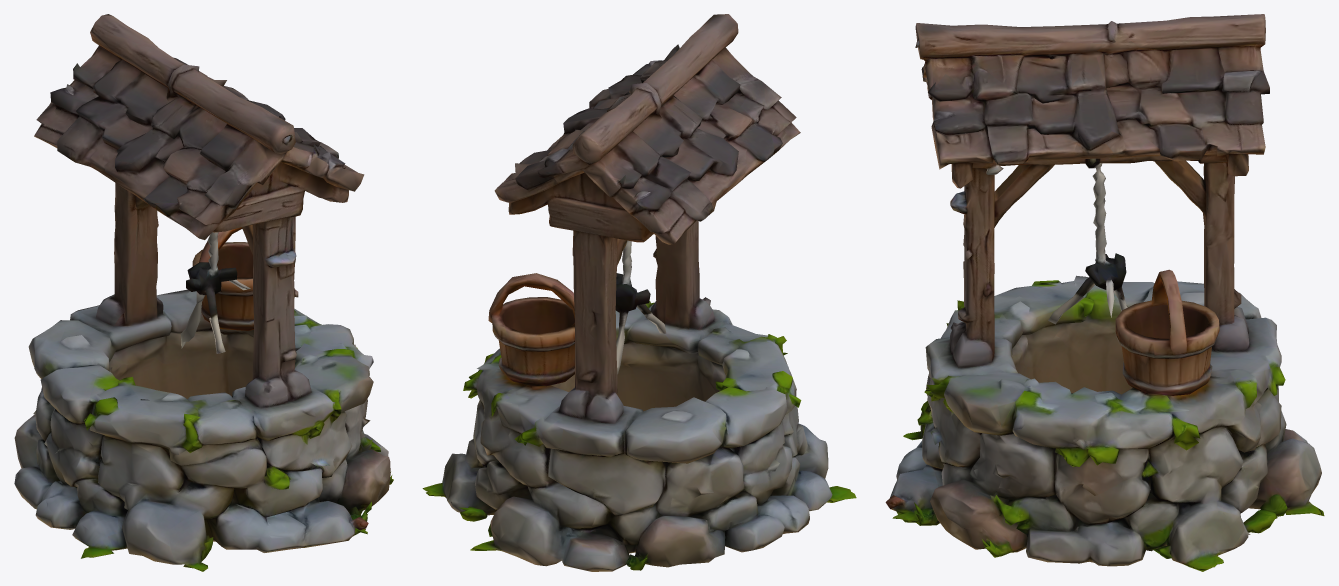
Rendered from well.glb.
3 views of the same model, side by side, from view 1: azimuth 30°, elevation 25°; view 2: azimuth 150°, elevation 25°; view 3: azimuth 270°, elevation 25° (orthographic). The views are drawn at different scales.
Parts seen in each view (by area): view 1: tripo_node_f966117c-1258-4989-9581-387348afc24d; view 2: tripo_node_f966117c-1258-4989-9581-387348afc24d; view 3: tripo_node_f966117c-1258-4989-9581-387348afc24d.
Boxes of the visible parts, left/top/right/bottom form: tripo_node_f966117c-1258-4989-9581-387348afc24d: left=14, top=14, right=393, bottom=571; tripo_node_f966117c-1258-4989-9581-387348afc24d: left=422, top=14, right=856, bottom=571; tripo_node_f966117c-1258-4989-9581-387348afc24d: left=885, top=14, right=1324, bottom=571.
Size of the model in its own units: 0.8358 by 1 by 0.8672.
1 material, 1 textured.
